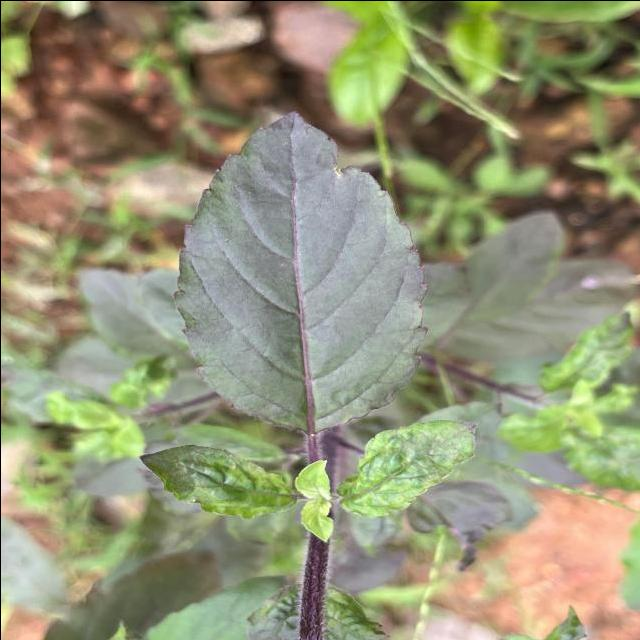Ocimum tenuiflorum: (164, 104, 433, 439)
